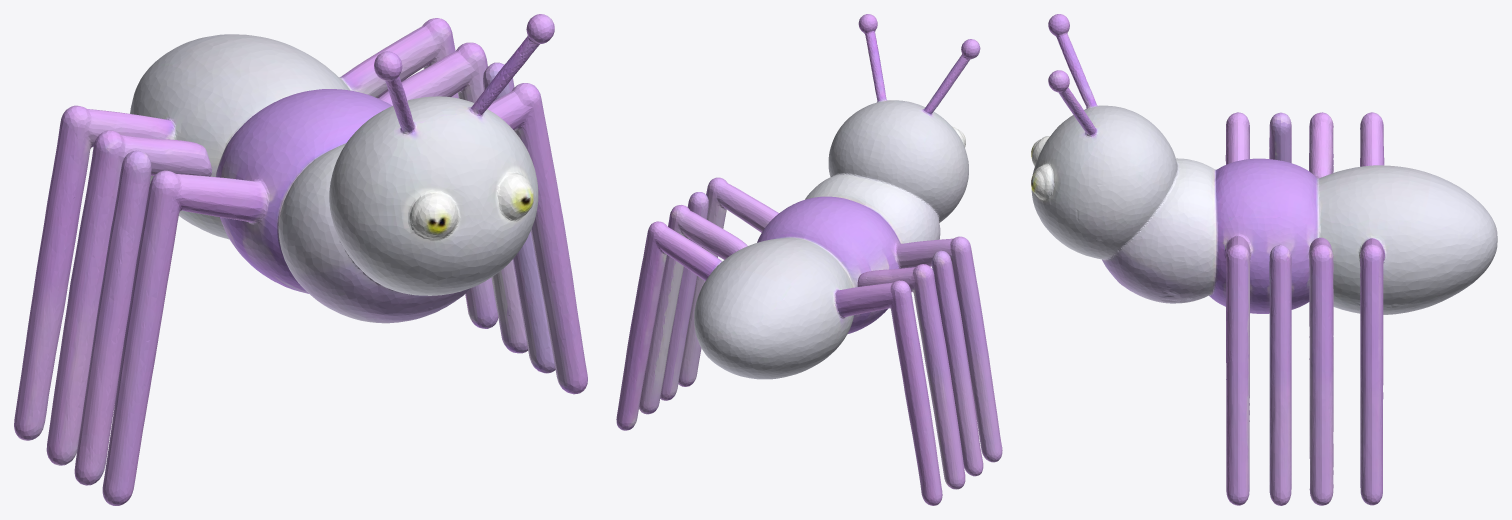
The model's file is creature-091.glb.
3 views of the same model, side by side, from view 1: azimuth 30°, elevation 25°; view 2: azimuth 150°, elevation 25°; view 3: azimuth 270°, elevation 25° (orthographic). The views are drawn at different scales.
Parts seen in each view (by area): view 1: tmpc48nktgf.ply; view 2: tmpc48nktgf.ply; view 3: tmpc48nktgf.ply.
Part boxes in pixels (x1=…): tmpc48nktgf.ply: x1=14, y1=14, x2=587, y2=505; tmpc48nktgf.ply: x1=616, y1=14, x2=1002, y2=505; tmpc48nktgf.ply: x1=1031, y1=14, x2=1497, y2=505.
Size of the model in its own units: 1.79 by 1.78 by 1.99.
1 material, 1 textured.
